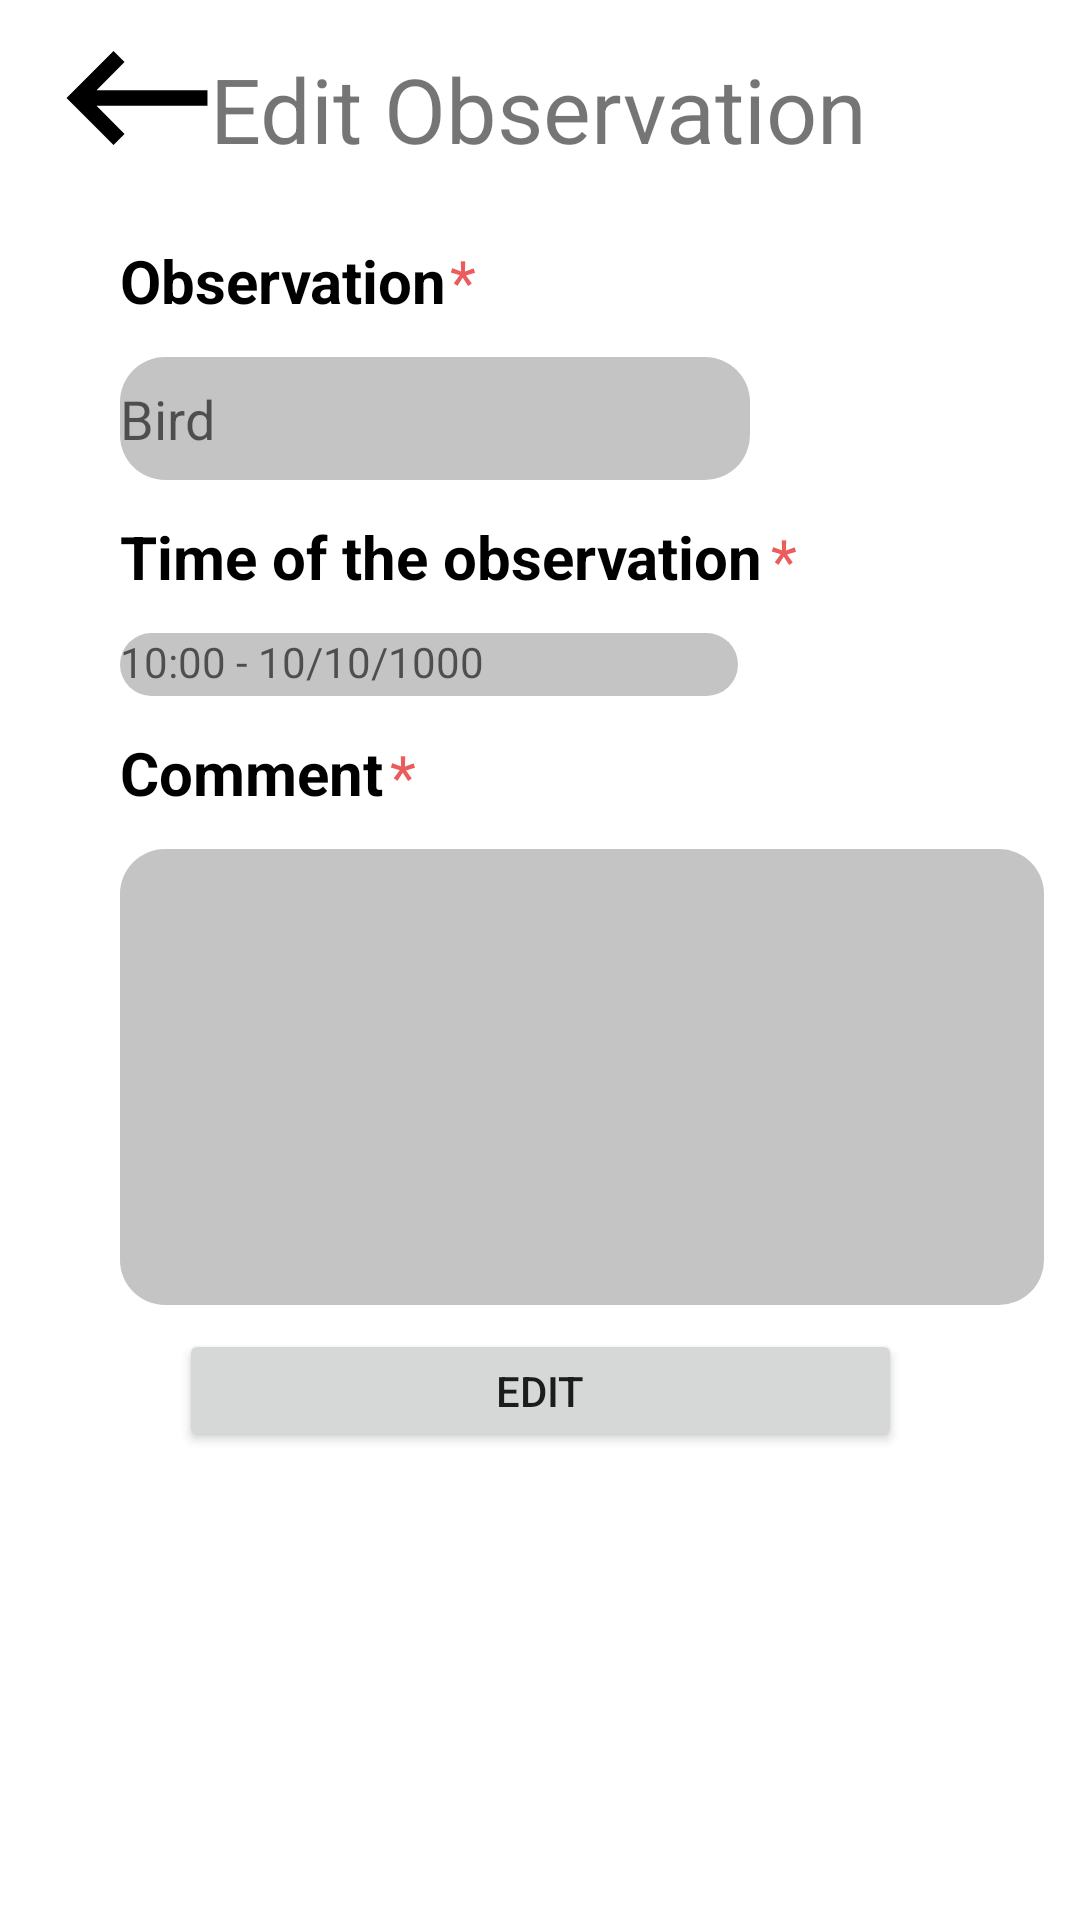

Point at icon controls on the screen. Image size 1080px x 1920px, points as (x,y).
Back Button: (137,98)
